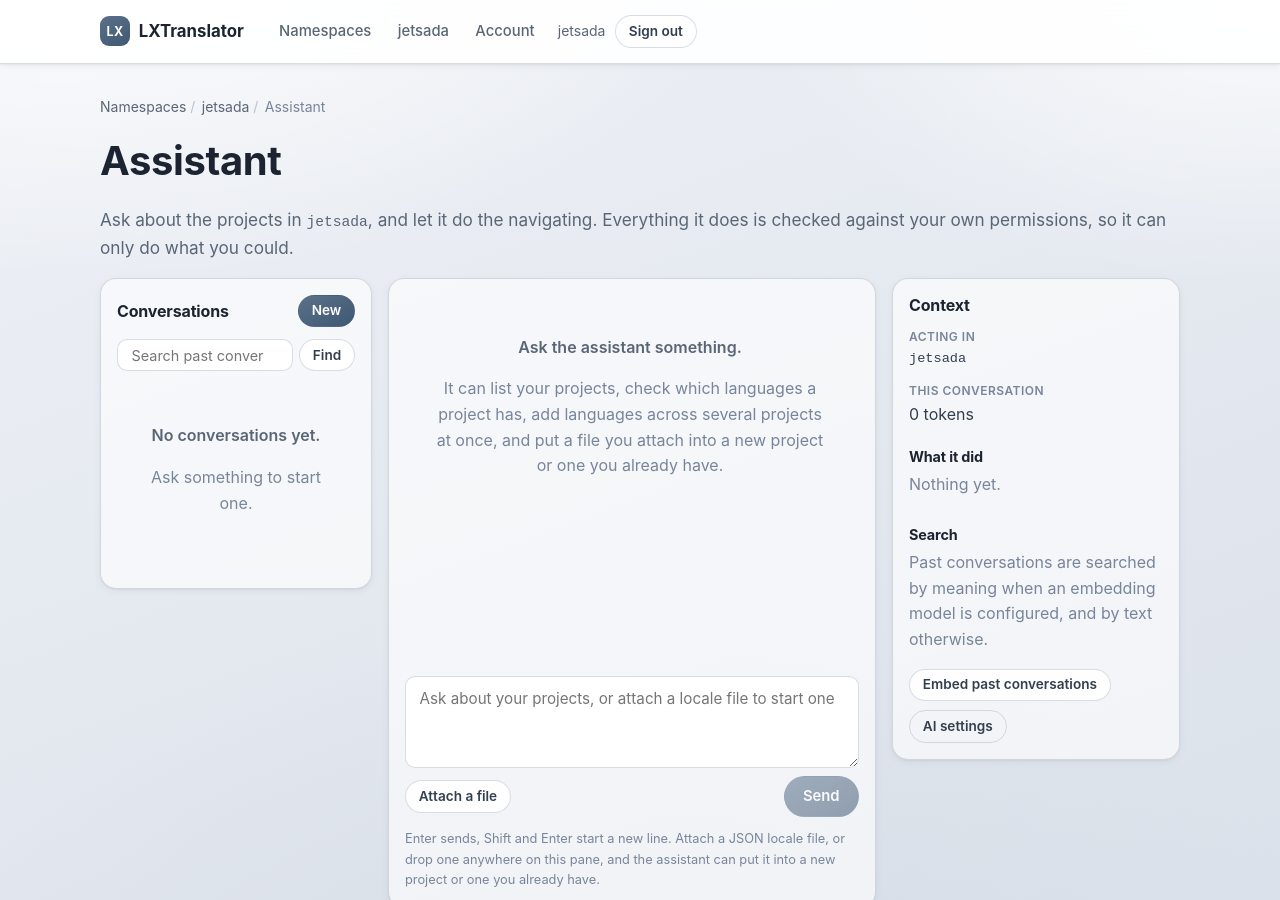
the assistant › sending a message › sends JSON when nothing is attached, and starts a session
Type "How many projects do I have?" into the text box named "Message" at coordinates (632, 722), box [405,676,859,768]
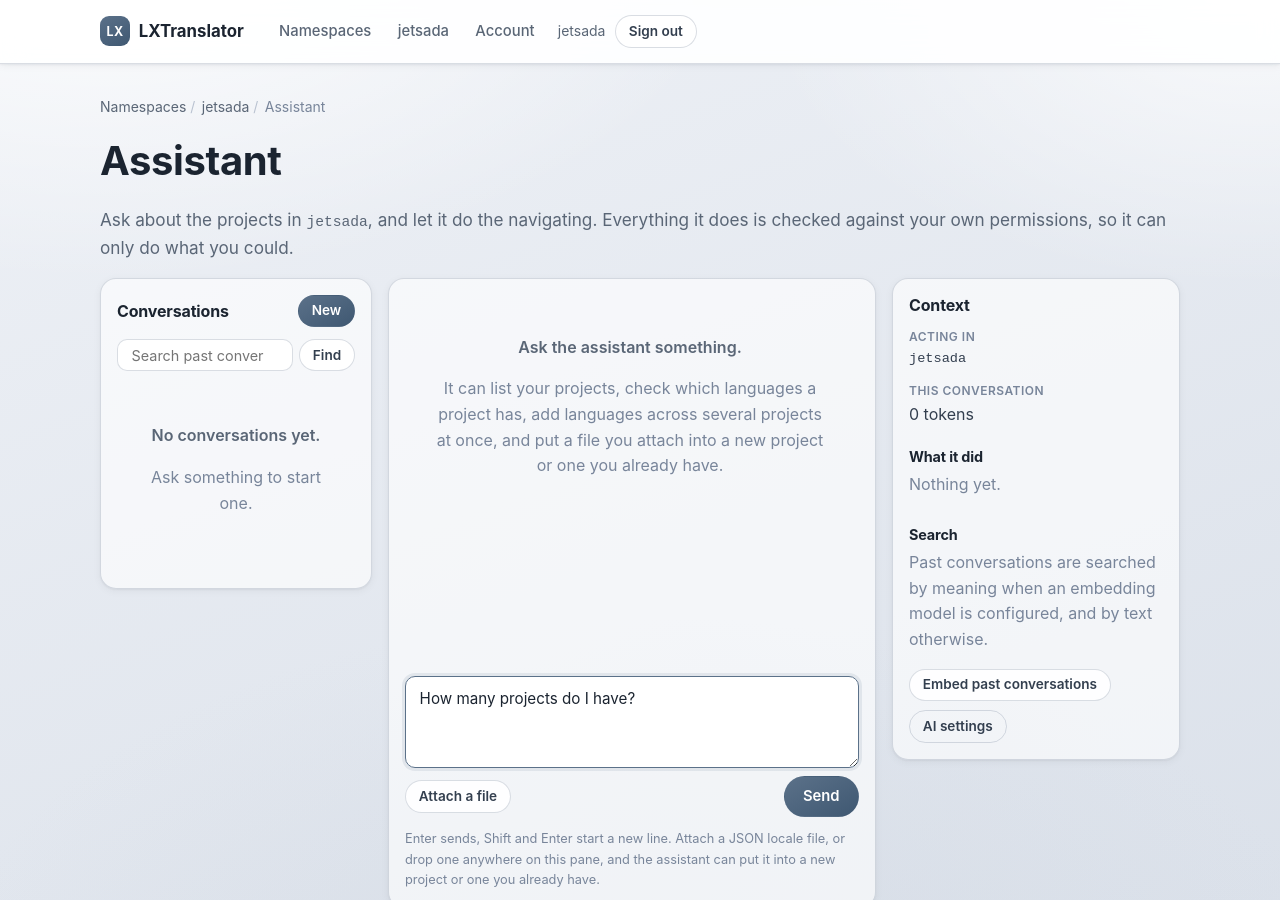
Click the button "Send" at coordinates (821, 797), box [784,776,859,817]
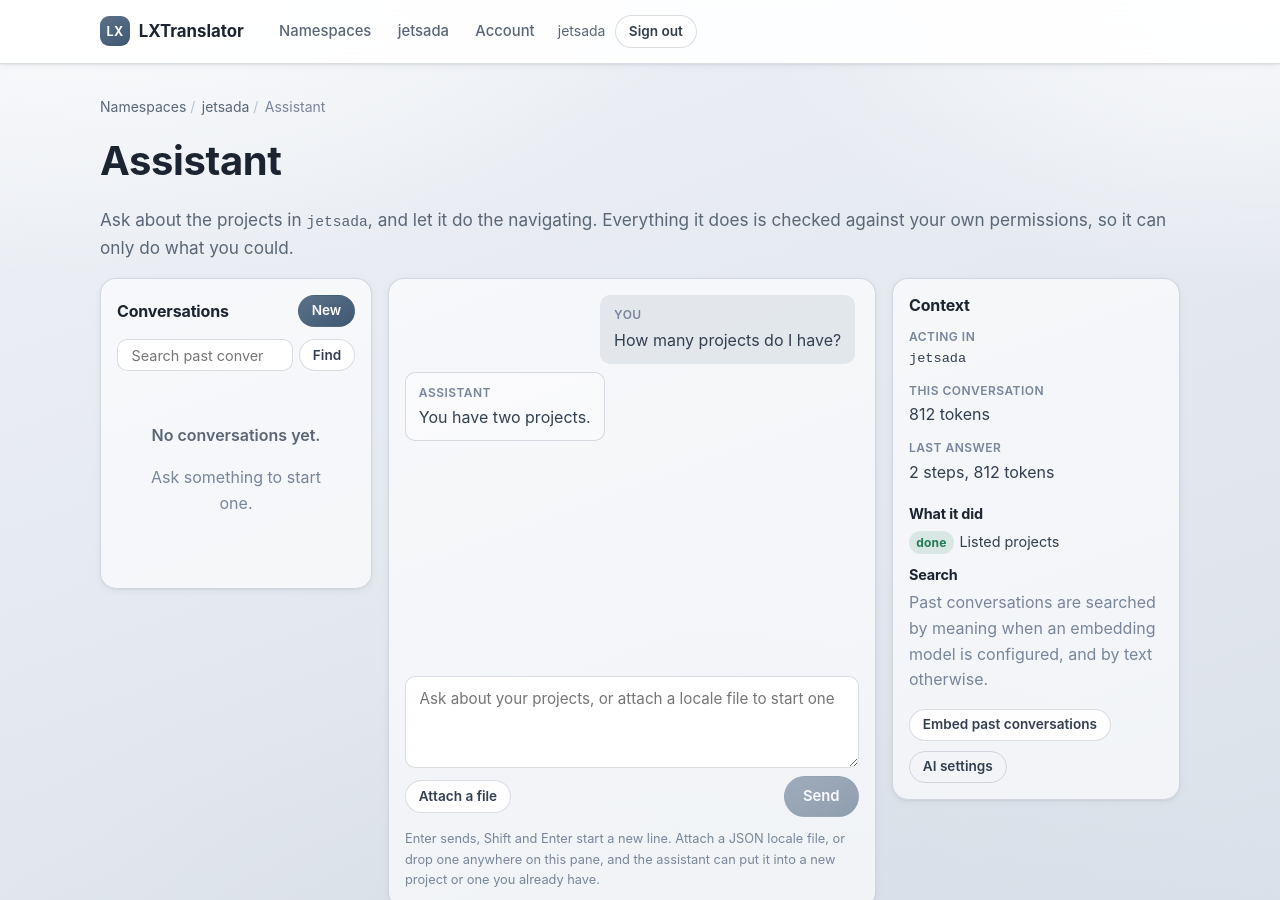
Result: the text "You have two projects." is shown at [419,405,591,431]
